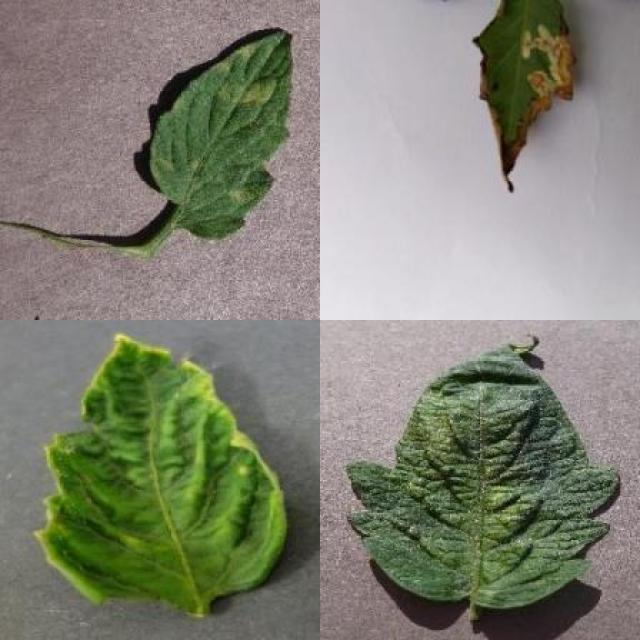Leaf Miner: (470, 0, 575, 174)
Leaf Mold: (150, 28, 296, 238)
Spider Mites: (346, 345, 620, 608)
Yellow Leaf Curl Virus: (37, 331, 292, 606)
